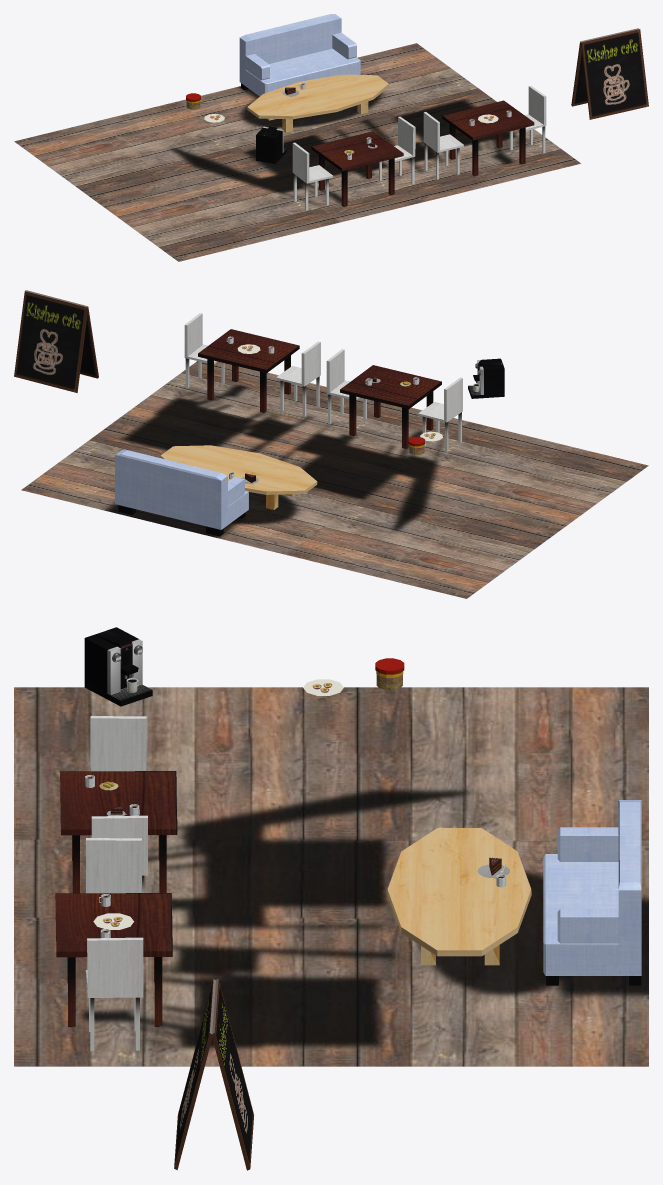
File: tennai.obj
3 views of the same model, one above another, from view 1: azimuth 30°, elevation 25°; view 2: azimuth 150°, elevation 25°; view 3: azimuth 270°, elevation 25° (orthographic). The views are drawn at different scales.
Bounding box in the file's own units: 7.65 × 1.23 × 4.25.
1 material, 1 textured.
